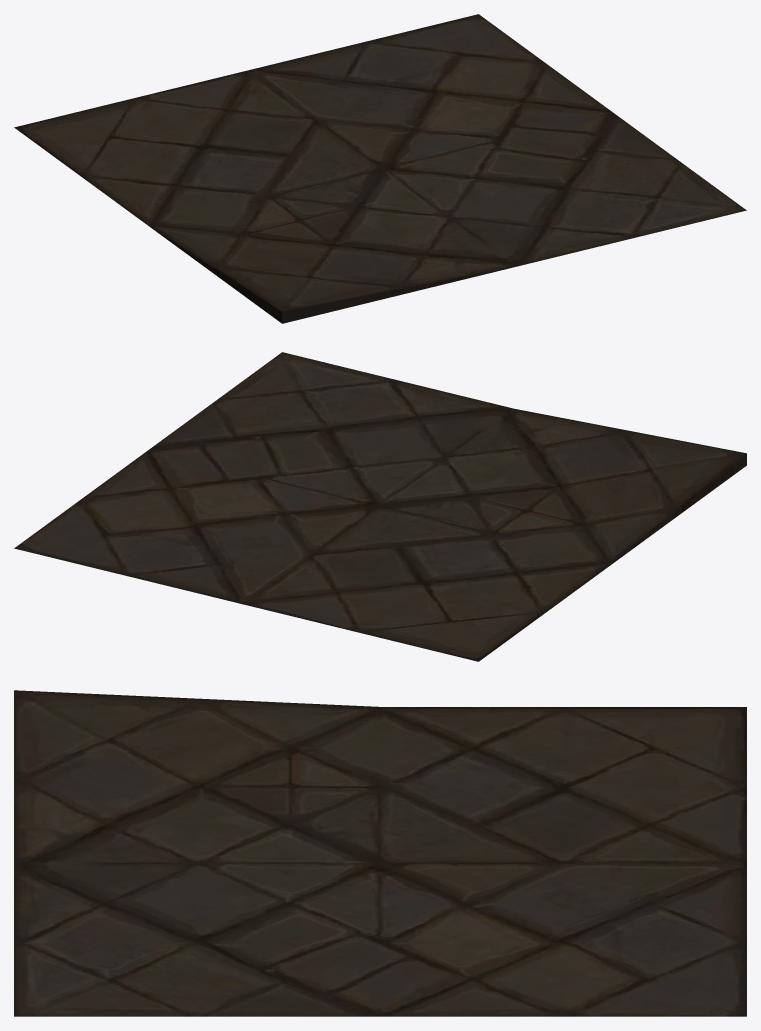
Rendered from fortress_floor_blank_09.fbx.
The picture shows the model from 3 angles, top to bottom: view 1: azimuth 30°, elevation 25°; view 2: azimuth 150°, elevation 25°; view 3: azimuth 270°, elevation 25°; orthographic projection. The views are drawn at different scales.
Visible parts, largest first — view 1: fortress_tileset/Floor_01_mat_shadow; view 2: fortress_tileset/Floor_01_mat_shadow; view 3: fortress_tileset/Floor_01_mat_shadow.
Part boxes in pixels (<box>): fortress_tileset/Floor_01_mat_shadow: <box>14,14,746,323</box>; fortress_tileset/Floor_01_mat_shadow: <box>14,352,746,661</box>; fortress_tileset/Floor_01_mat_shadow: <box>14,690,746,1016</box>.
Bounding box in the file's own units: 4 × 0.1 × 4.
